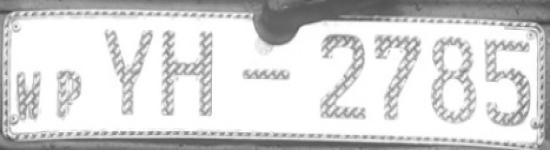-: (236, 63, 299, 90)
2: (316, 28, 373, 128)
5: (478, 32, 535, 132)
7: (374, 26, 424, 124)
8: (424, 27, 480, 129)
H: (154, 24, 216, 123)
P: (50, 62, 88, 126)
W: (12, 65, 46, 126)
Y: (100, 23, 155, 122)
